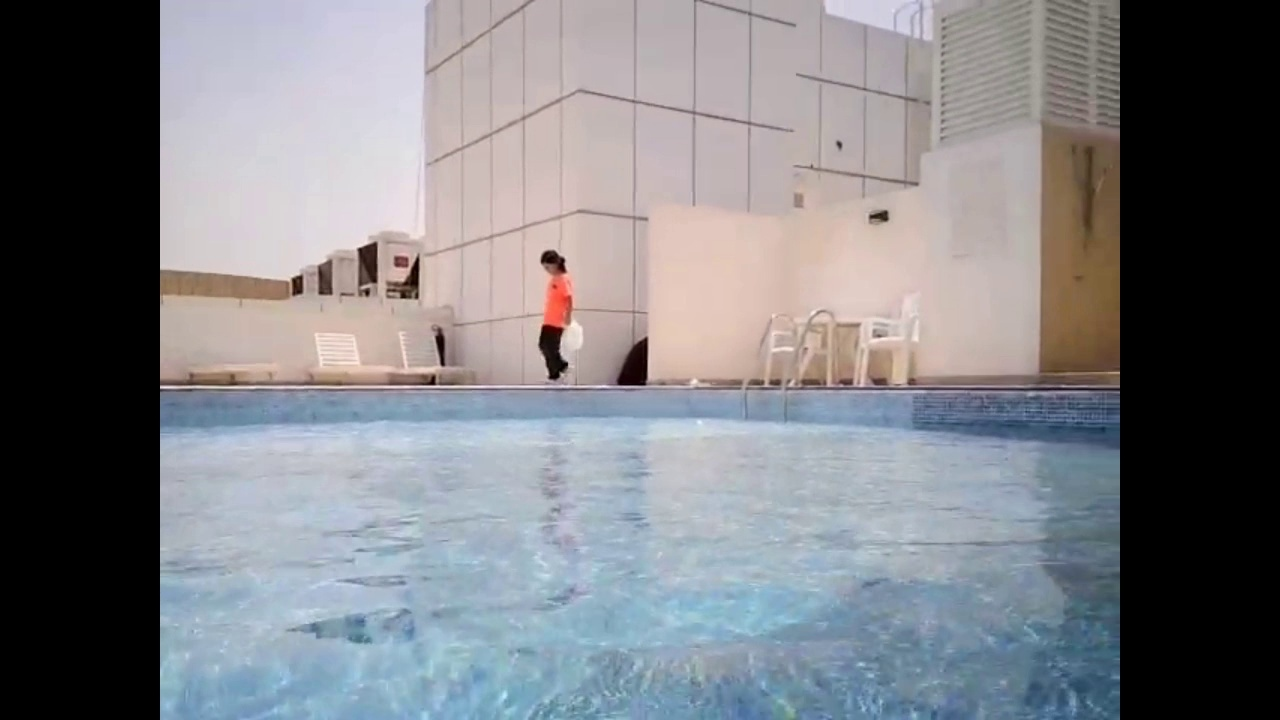debris: (692, 417, 702, 427)
